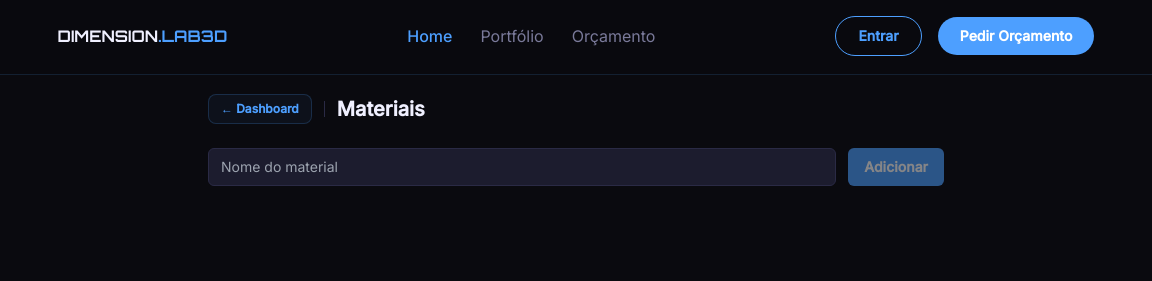
Scenario: MaterialsAdmin › creates a new material
Type "TPU" into the field with placeholder "Nome do material" at (522, 167), box [208,148,836,186]
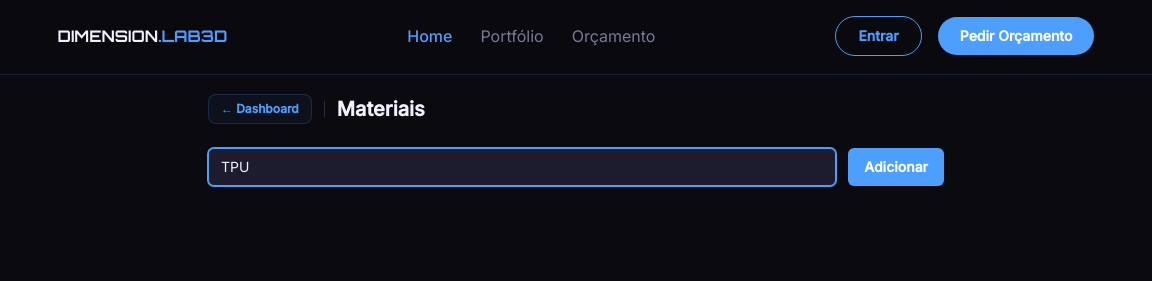
Click the button "Adicionar" at (896, 167), box [848,148,944,186]
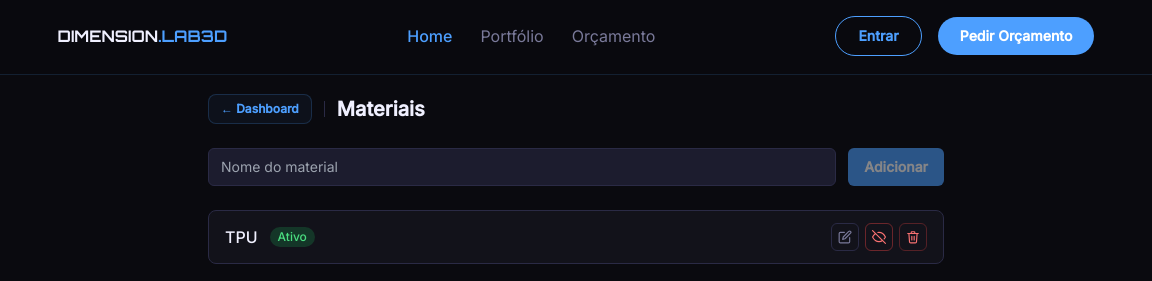
Check: the text "TPU" is shown, box [225,225,258,249]
